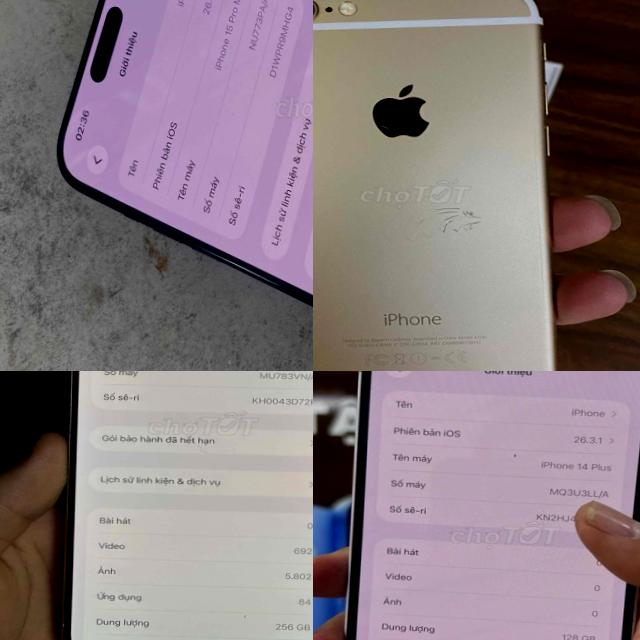gen_14: (333, 371, 639, 640)
gen_15: (43, 0, 313, 371), (55, 371, 313, 640)
gen_6: (313, 0, 583, 371)
scratch: (386, 186, 518, 262)
